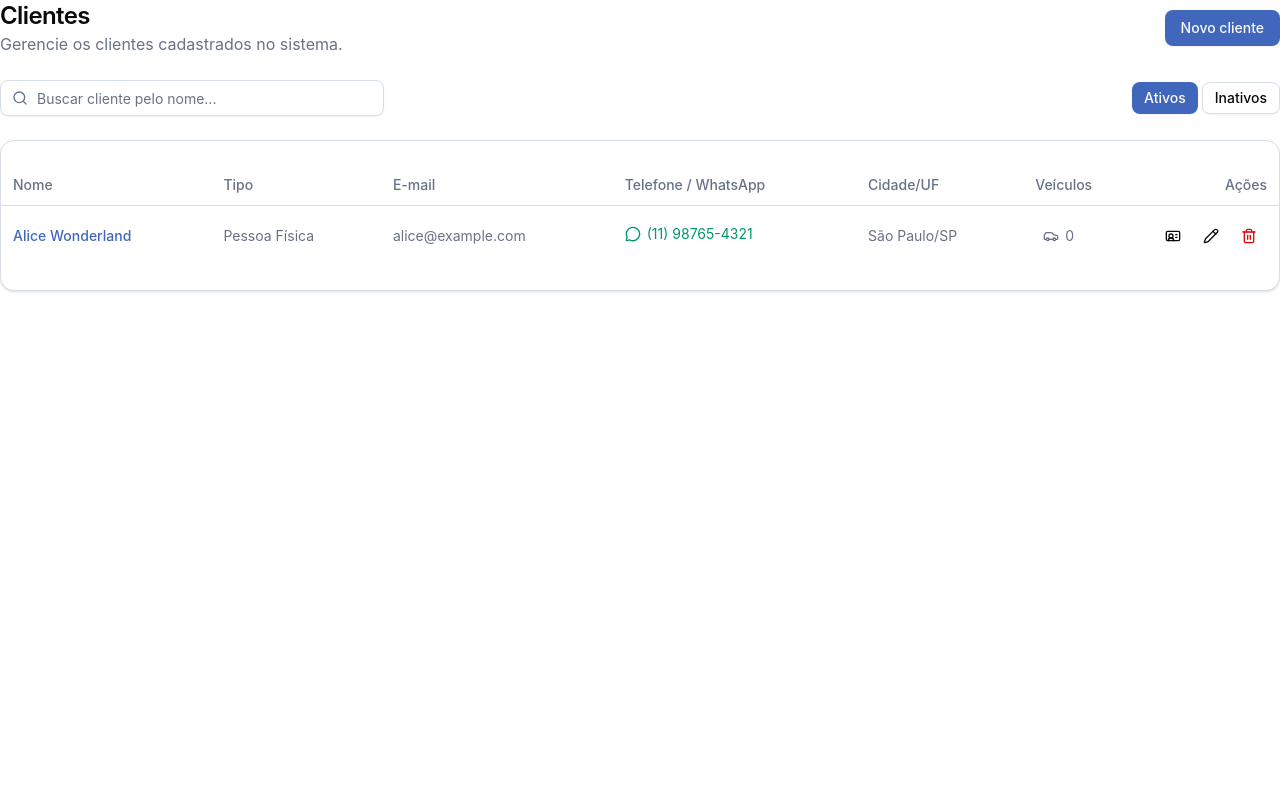
CustomersPage › opens the edit sheet with the selected customer's data
Expected: the link "Alice Wonderland" is shown, [13,226,131,244]
Step 1. Click the button named "Editar" → click(1211, 236), box [1193,218,1229,254]
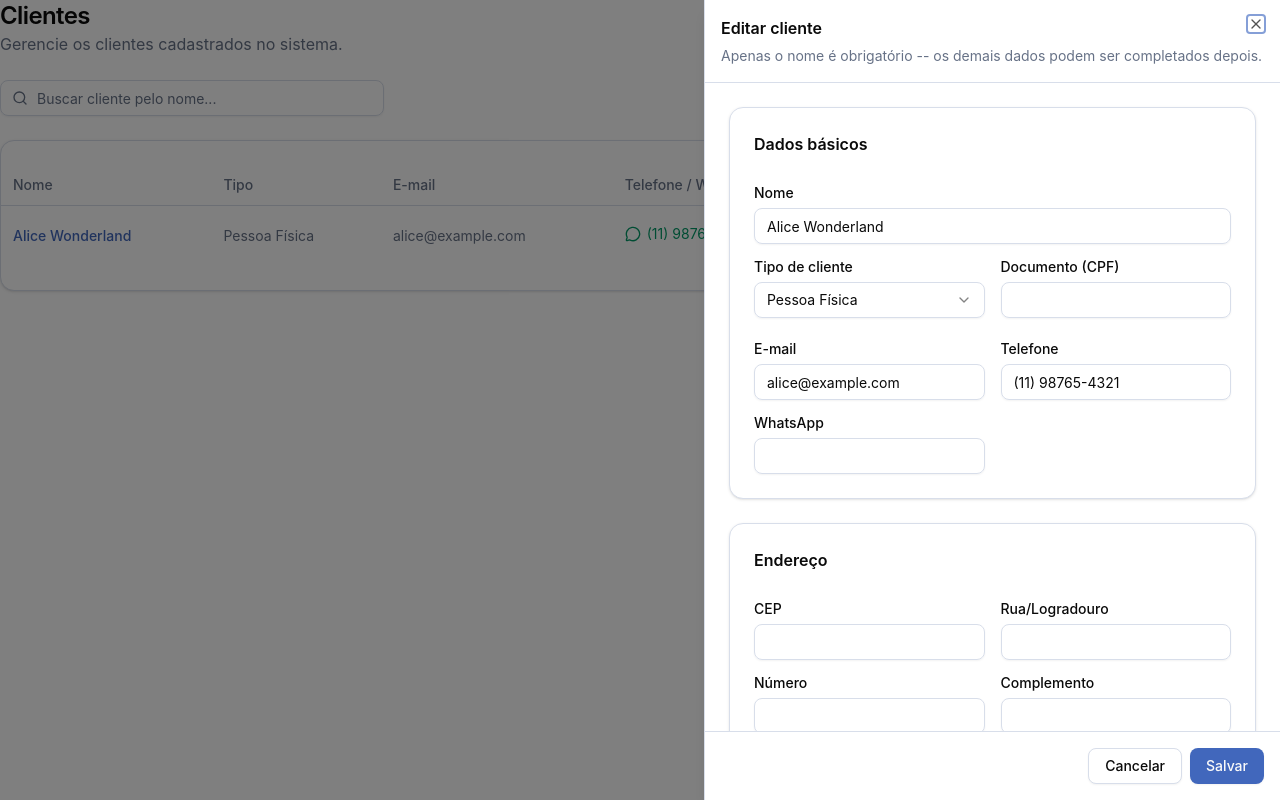
Expected: the heading "Editar cliente" is shown, [721,18,822,38]
Expected: the field showing "Alice Wonderland" is shown, [754,208,1231,244]
